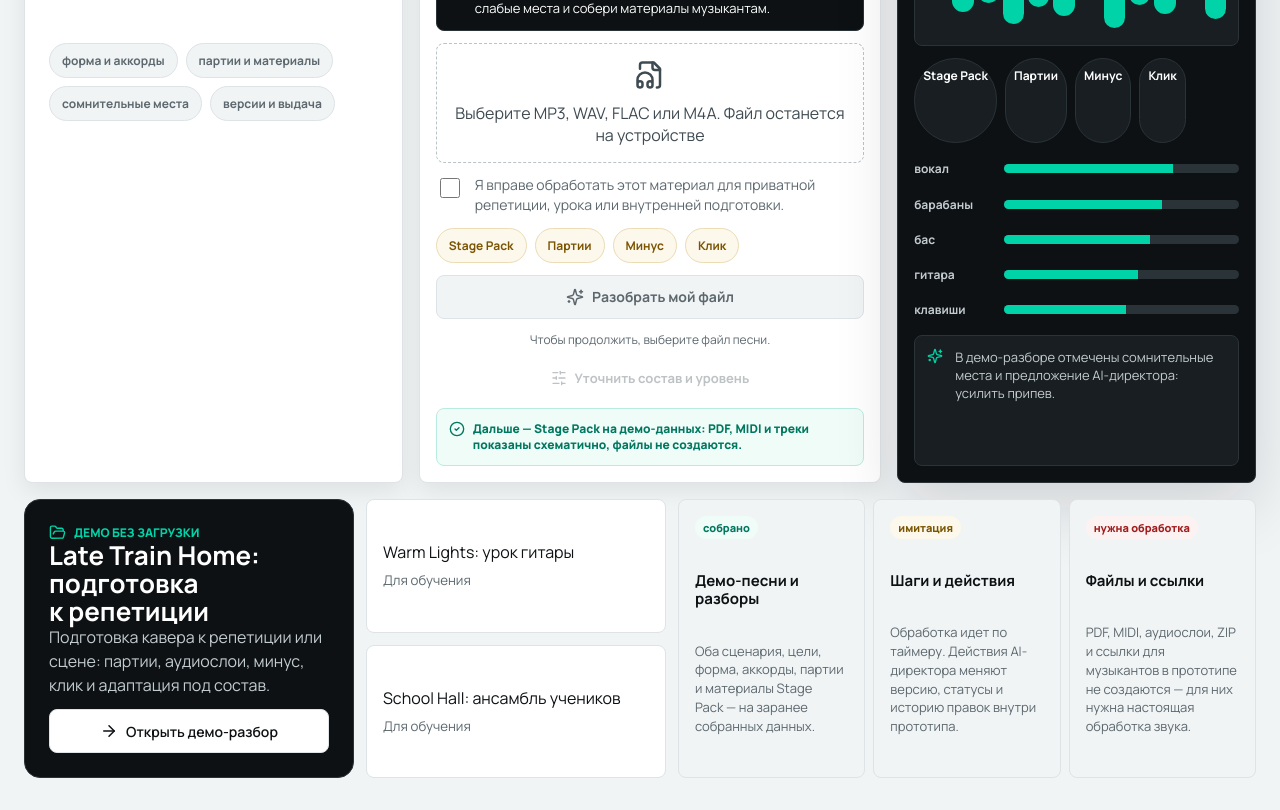
Scenario: экран обработки › показывает предупреждения обработки
(page scrolled)
Click the button "Открыть демо-разбор". click: (189, 731)
box: [49, 709, 329, 753]
(page scrolled)
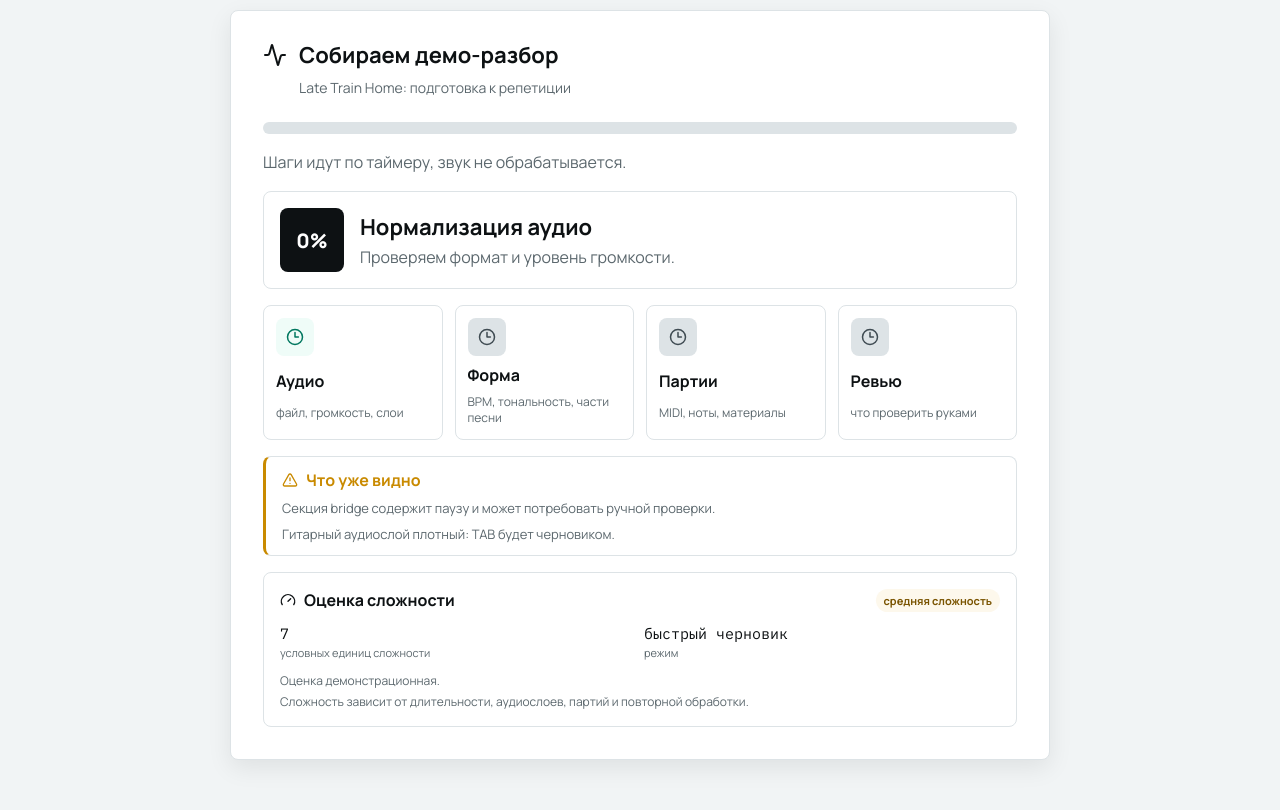
Check: the element named "Предупреждения обработки" is shown, box [263, 456, 1017, 556]
